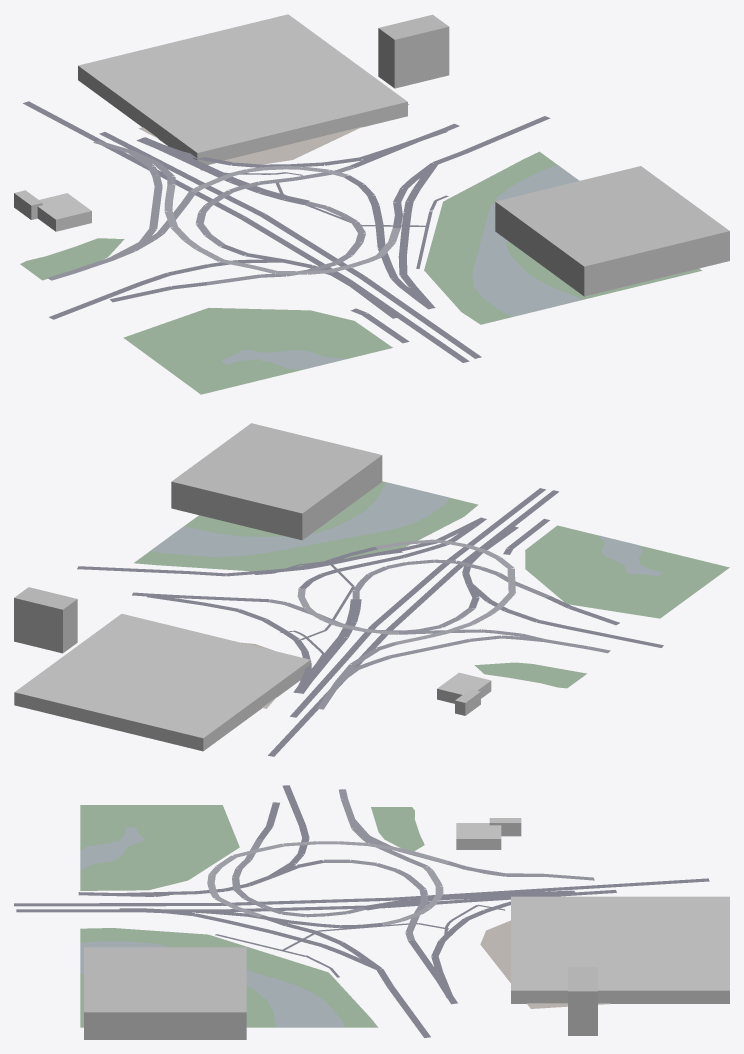
Rendered from 121_115_mid.glb.
The picture shows the model from 3 angles, top to bottom: view 1: azimuth 30°, elevation 25°; view 2: azimuth 150°, elevation 25°; view 3: azimuth 270°, elevation 25°; orthographic projection. The views are drawn at different scales.
Size of the model in its own units: 574 by 47.45 by 675.
